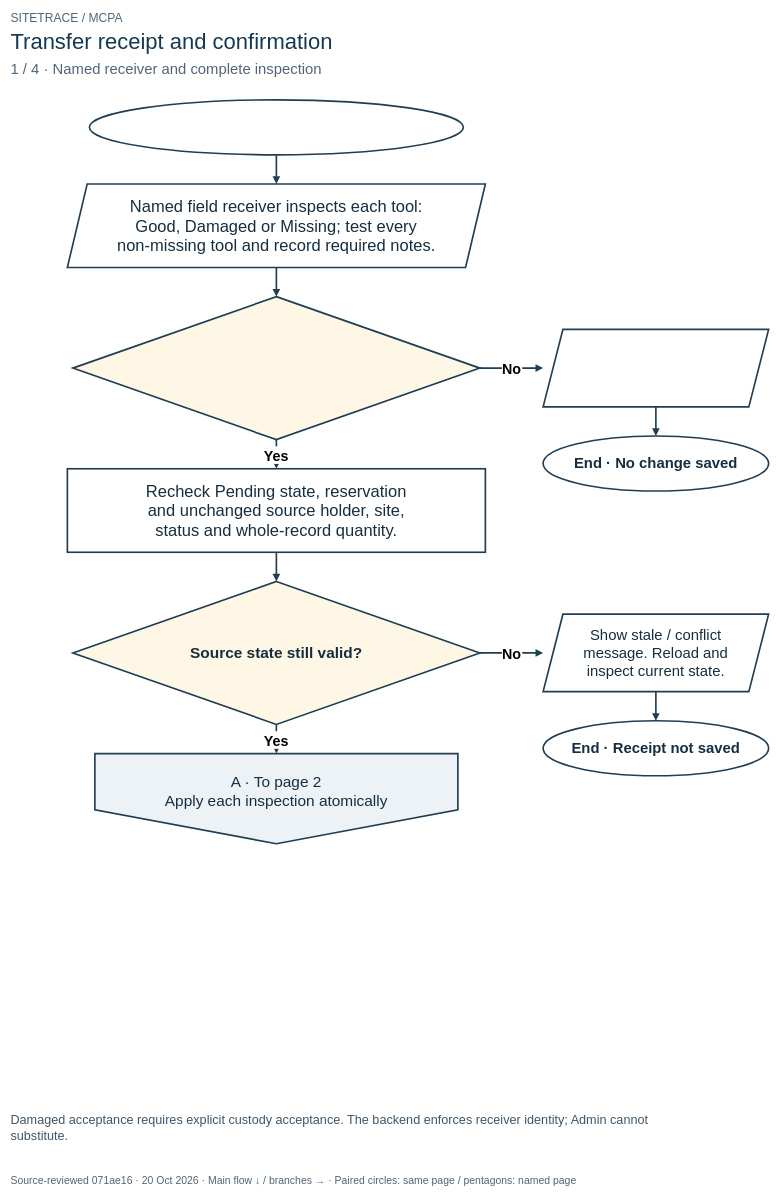
The diagram is 779 pixels wide and 1198 high, and some of its shapes have lost their labels. Here are the shapes that lost their labels. From the top down, the centre of each, then its label:
At point (276, 127): "Start · Receiver opens handover".
At point (276, 368): "Named receiver and complete inspection?".
At point (655, 367): "Show permission, validation or conflict message to the user.".
